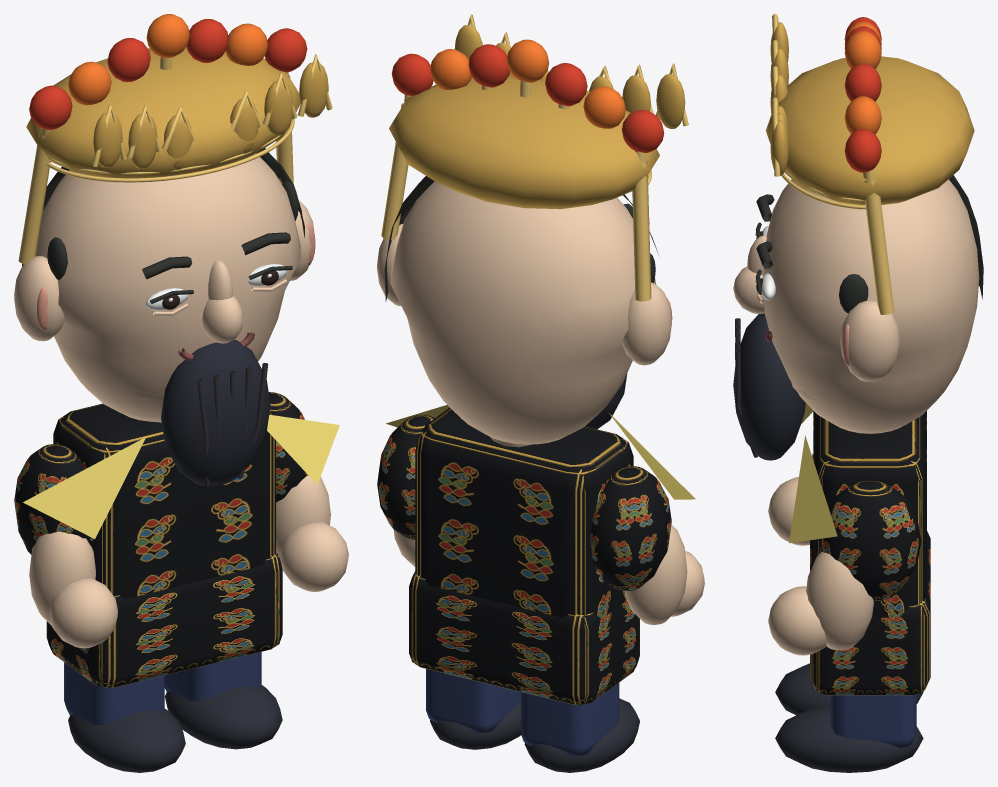
File: longlong-15.glb
3 renders of one model, left to right at view 1: azimuth 30°, elevation 25°; view 2: azimuth 150°, elevation 25°; view 3: azimuth 270°, elevation 25°, orthographic. The views are drawn at different scales.
Visible parts, largest first — view 1: Trousers, Trousers.004, Trousers.029, Trousers.030, Trousers.031, Trousers.033; view 2: Trousers, Trousers.004, Trousers.029, Trousers.031, Trousers.030, Trousers.033; view 3: Trousers, Trousers.004, Trousers.029, Trousers.030, Trousers.031, Trousers.033.
Part boxes in pixels (x1=…): Trousers: x1=14, y1=148, x2=348, y2=772; Trousers.004: x1=14, y1=392, x2=308, y2=687; Trousers.029: x1=26, y1=47, x2=328, y2=178; Trousers.030: x1=18, y1=54, x2=332, y2=264; Trousers.031: x1=29, y1=19, x2=307, y2=129; Trousers.033: x1=68, y1=14, x2=267, y2=105; Trousers: x1=377, y1=176, x2=704, y2=772; Trousers.004: x1=377, y1=407, x2=671, y2=704; Trousers.029: x1=389, y1=25, x2=685, y2=209; Trousers.031: x1=391, y1=44, x2=664, y2=152; Trousers.030: x1=381, y1=14, x2=688, y2=301; Trousers.033: x1=430, y1=39, x2=625, y2=128; Trousers: x1=733, y1=175, x2=983, y2=772; Trousers.004: x1=810, y1=411, x2=930, y2=695; Trousers.029: x1=766, y1=22, x2=974, y2=205; Trousers.030: x1=772, y1=14, x2=894, y2=314; Trousers.031: x1=844, y1=17, x2=881, y2=172; Trousers.033: x1=844, y1=21, x2=881, y2=133.
Size of the model in its own units: 1.37 by 3 by 0.9593.
6 materials, 2 textured.
